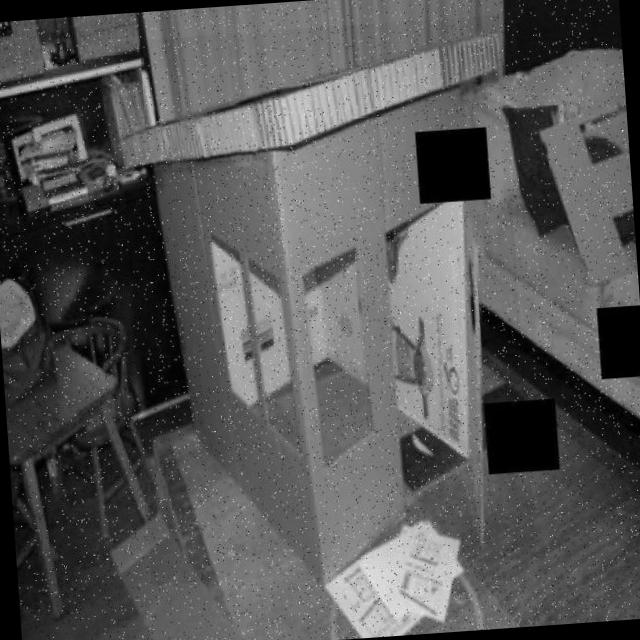box: (113, 14, 536, 585)
